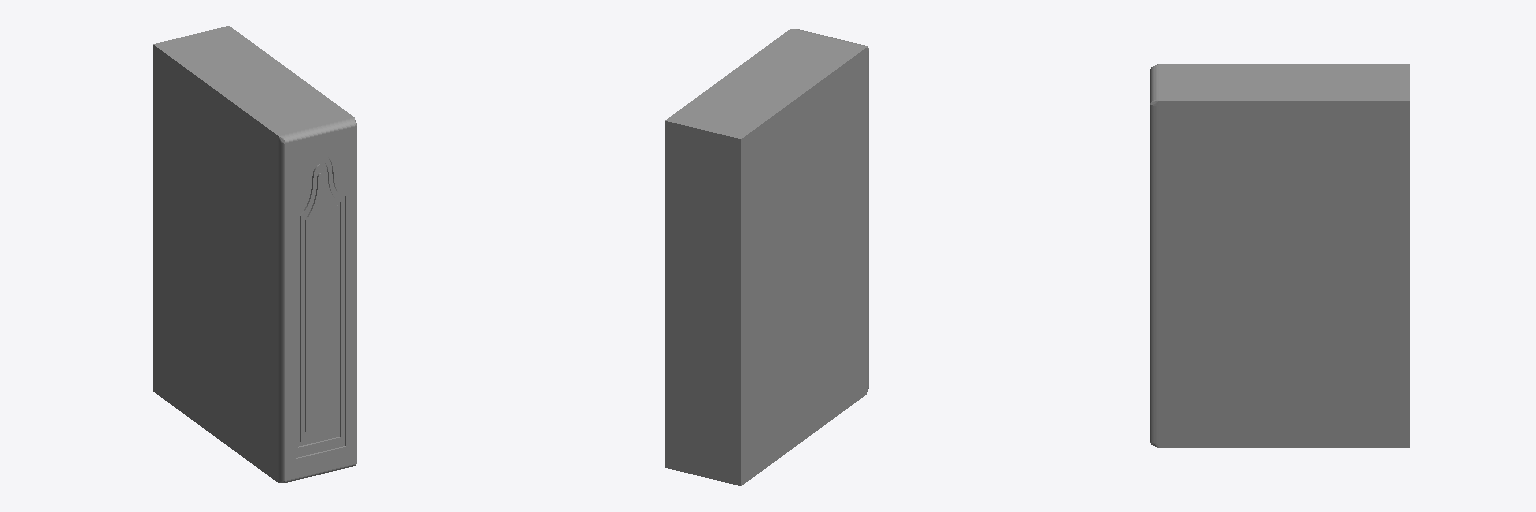
File: single-base-unit-200.obj
The picture shows the model from 3 angles: view 1: azimuth 30°, elevation 25°; view 2: azimuth 150°, elevation 25°; view 3: azimuth 270°, elevation 25°; orthographic projection.
Visible parts, largest first — view 1: Cube.002_Cube.004, Cube.003_Cube.008, Cube_Cube.002, Cube.001_Cube.003; view 2: Cube.002_Cube.004, Cube_Cube.002, Cube.001_Cube.003, Cube.003_Cube.008; view 3: Cube.001_Cube.003, Cube_Cube.002, Cube.003_Cube.008, Cube.002_Cube.004.
Part boxes in pixels (x1,y1,x2,y2): Cube.002_Cube.004: (153, 43, 283, 481); Cube.003_Cube.008: (278, 117, 356, 482); Cube_Cube.002: (160, 27, 347, 134); Cube.001_Cube.003: (224, 26, 353, 118); Cube.002_Cube.004: (735, 46, 866, 485); Cube_Cube.002: (671, 30, 859, 484); Cube.001_Cube.003: (665, 29, 795, 468); Cube.003_Cube.008: (793, 29, 868, 391); Cube.001_Cube.003: (1159, 98, 1409, 447); Cube_Cube.002: (1159, 67, 1409, 97); Cube.003_Cube.008: (1150, 64, 1158, 447); Cube.002_Cube.004: (1159, 64, 1409, 66).
Size of the model in its own units: 40 by 174 by 118.